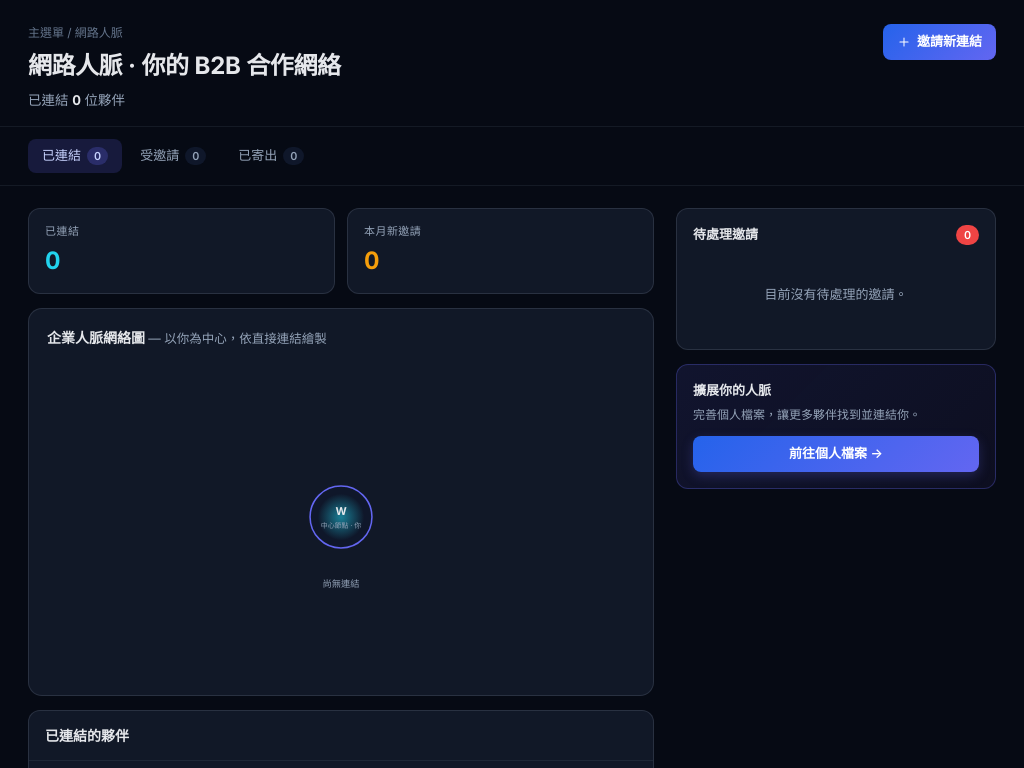
Scenario: NetworkPage › surfaces CONNECTION_EXISTS inline as "已是好友或邀請已存在"
The width and height of the screenshot is (1024, 768).
Click the button "邀請新連結": [940, 42] box [883,24,996,60]
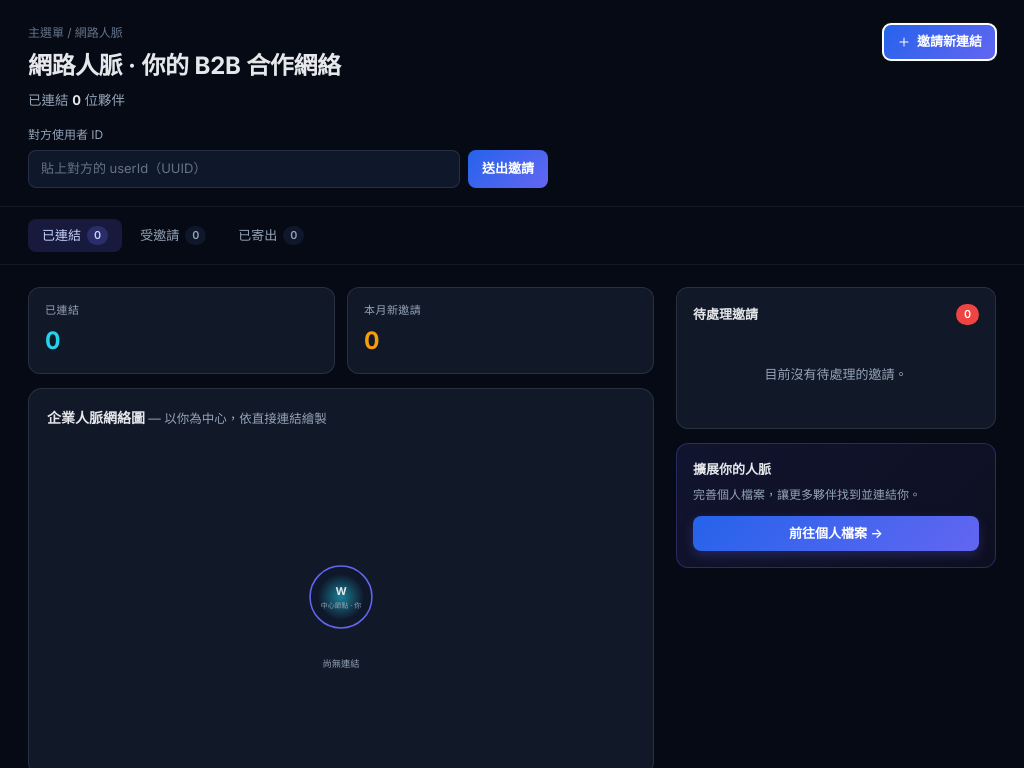
In the field labelled "對方使用者 ID": [244, 169] box [28,150,460,188], type "u-dup"
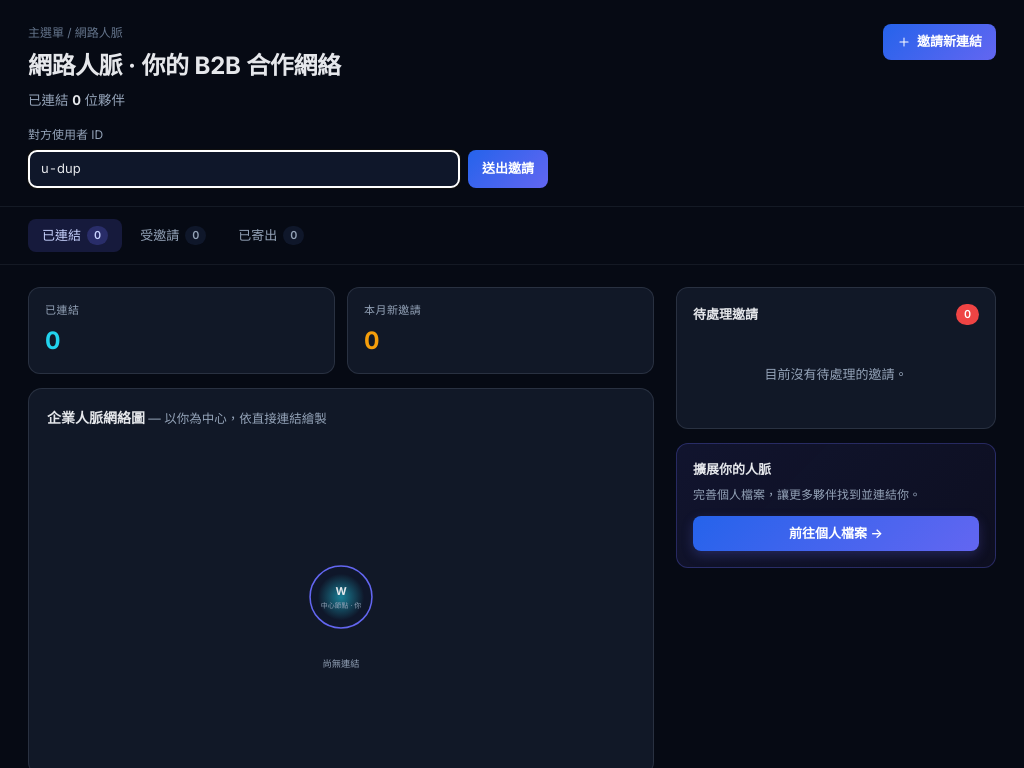
Click the button "送出邀請": [508, 169] box [468,150,548,188]
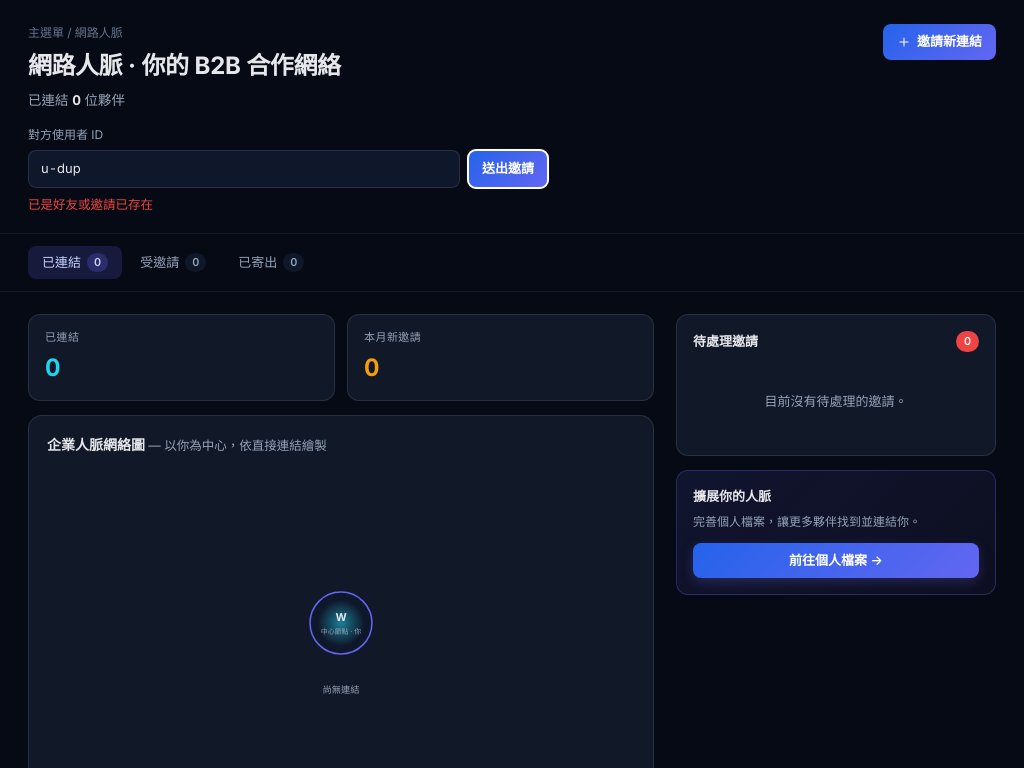
Expected: the message reads "已是好友或邀請已存在", [28,197,153,212]
